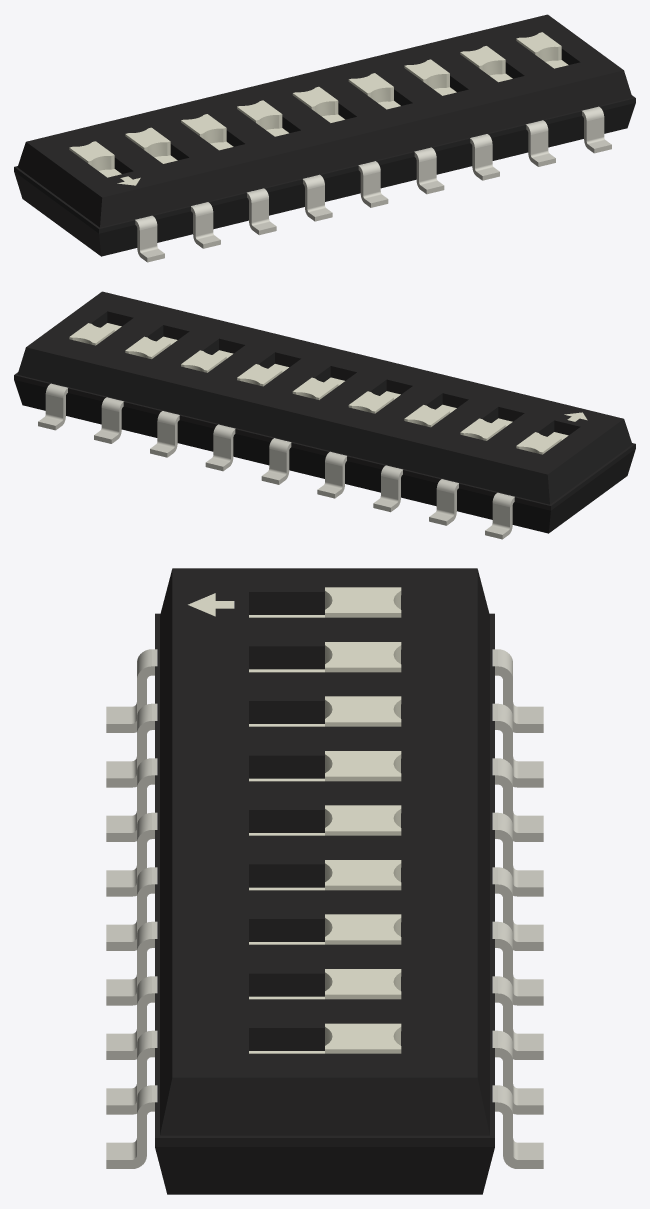
The model's file is kc-sw_dip_spstx09_slide_6.7x24.42mm_w8.61mm_p2.54mm_lowprofile.glb.
3 views of the same model, one above another, from view 1: azimuth 30°, elevation 25°; view 2: azimuth 150°, elevation 25°; view 3: azimuth 270°, elevation 25° (orthographic). The views are drawn at different scales.
Parts seen in each view (by area): view 1: 0_0_0_0, 0.75_0.75_0.6666666666666666_0, 0.6666666666666666_0.6666666666666666_0.5833333333333334_0.8; view 2: 0_0_0_0, 0.6666666666666666_0.6666666666666666_0.5833333333333334_0.8, 0.75_0.75_0.6666666666666666_0; view 3: 0_0_0_0, 0.6666666666666666_0.6666666666666666_0.5833333333333334_0.8, 0.75_0.75_0.6666666666666666_0.
Boxes of the visible parts, x1,y1,x2,y2 form: 0_0_0_0: (14, 14, 635, 256); 0.75_0.75_0.6666666666666666_0: (69, 32, 568, 185); 0.6666666666666666_0.6666666666666666_0.5833333333333334_0.8: (135, 106, 611, 262); 0_0_0_0: (14, 291, 635, 533); 0.6666666666666666_0.6666666666666666_0.5833333333333334_0.8: (38, 383, 514, 539); 0.75_0.75_0.6666666666666666_0: (69, 323, 587, 454); 0_0_0_0: (155, 568, 494, 1194); 0.6666666666666666_0.6666666666666666_0.5833333333333334_0.8: (106, 649, 543, 1168); 0.75_0.75_0.6666666666666666_0: (188, 587, 401, 1053).
Size of the model in its own units: 2.44 by 0.2699 by 0.8609.
